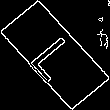L_NE: (24, 27, 86, 83)
